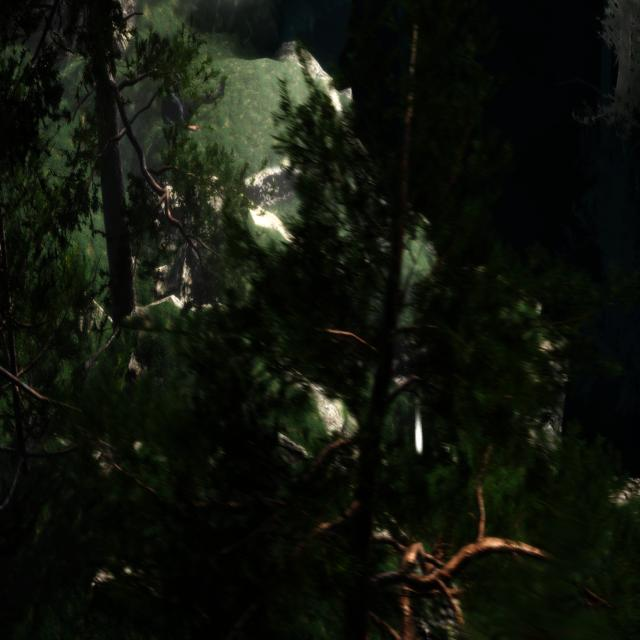Human: (158, 63, 226, 133)
